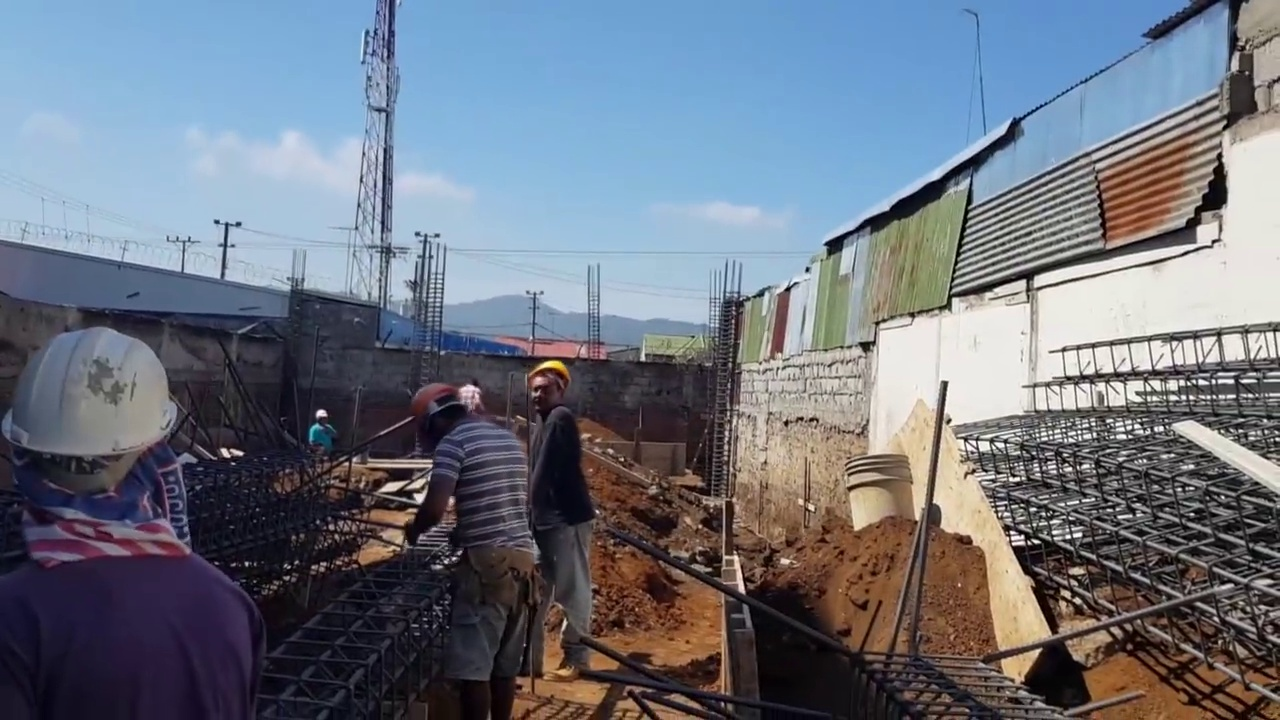helmet: (16, 327, 174, 467), (409, 382, 460, 430), (527, 359, 572, 386), (315, 410, 328, 419)
helmet-off: (457, 376, 484, 424), (464, 376, 482, 388)
helmet-on: (1, 332, 175, 527), (408, 383, 467, 451), (525, 357, 574, 413), (315, 410, 329, 428)
person: (0, 329, 266, 716), (409, 382, 525, 715), (517, 358, 597, 665), (308, 409, 338, 460)
